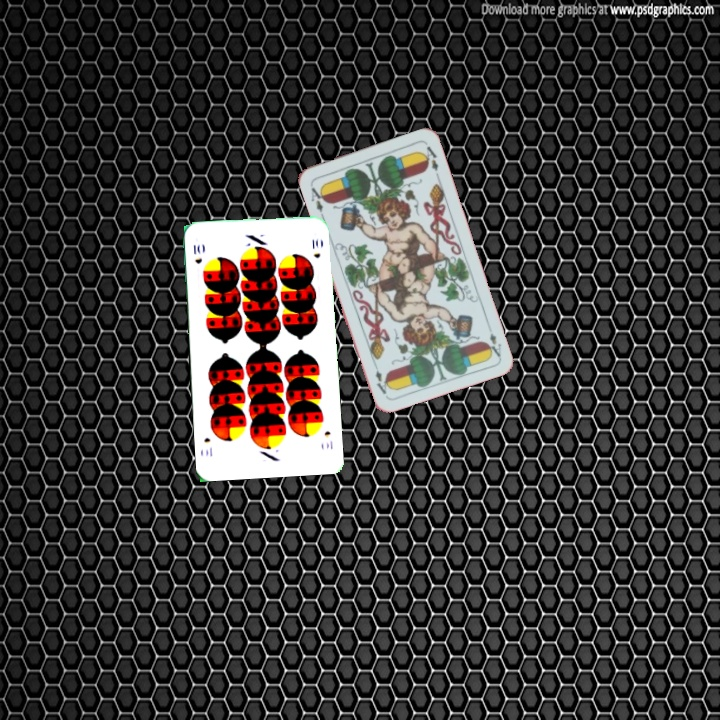EA: (306, 181, 329, 220), (482, 329, 504, 360)
S10: (189, 241, 204, 266), (320, 427, 335, 452)
